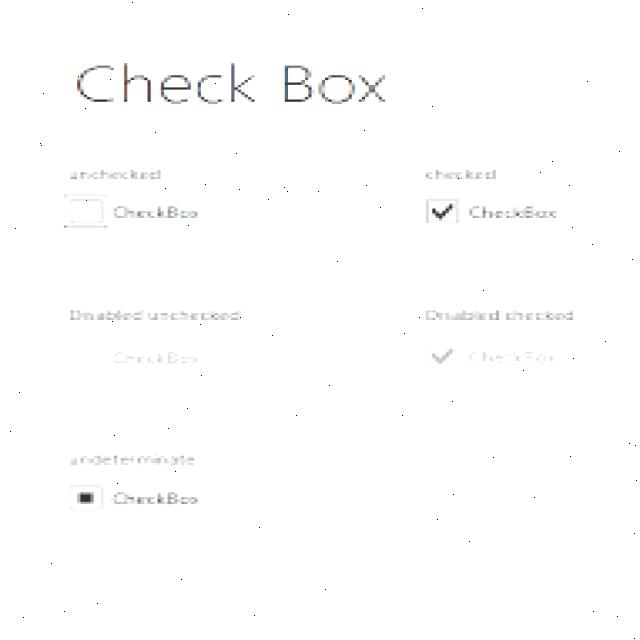checkbox: (68, 197, 108, 229), (66, 482, 105, 512), (66, 343, 102, 373), (424, 200, 461, 226), (425, 344, 462, 370)
label: (62, 298, 254, 333), (110, 342, 213, 377), (109, 480, 204, 517), (467, 342, 568, 374), (111, 198, 209, 229), (467, 198, 562, 228)
